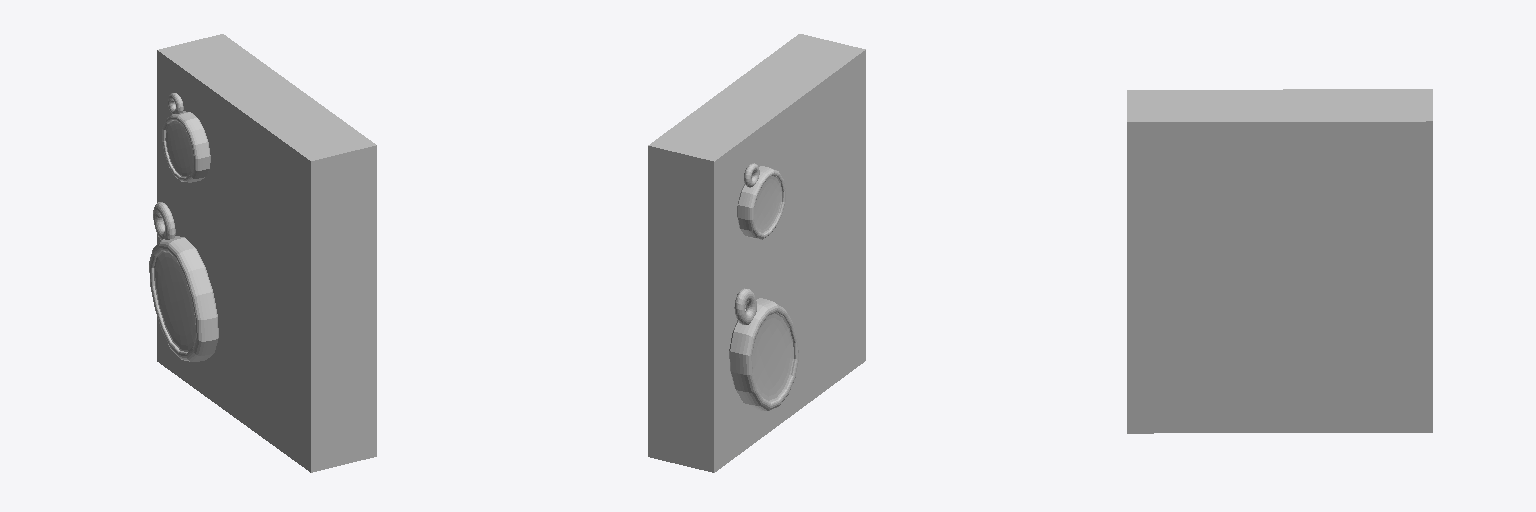
File: pared ayuda.obj
3 renders of one model, left to right at view 1: azimuth 30°, elevation 25°; view 2: azimuth 150°, elevation 25°; view 3: azimuth 270°, elevation 25°, orthographic.
Visible parts, largest first — view 1: initialShadingGroup pCube26, initialShadingGroup pCube23, initialShadingGroup pCube22, initialShadingGroup pCube23 pTorus1; view 2: initialShadingGroup pCube26, initialShadingGroup pCube23, initialShadingGroup pCube22, initialShadingGroup pCube23 pTorus1; view 3: initialShadingGroup pCube26.
Part boxes in pixels (bbox=[...]): initialShadingGroup pCube26: bbox=[157, 34, 376, 472]; initialShadingGroup pCube23: bbox=[149, 236, 218, 361]; initialShadingGroup pCube22: bbox=[162, 111, 210, 182]; initialShadingGroup pCube23 pTorus1: bbox=[153, 202, 175, 240]; initialShadingGroup pCube26: bbox=[648, 34, 865, 472]; initialShadingGroup pCube23: bbox=[729, 298, 798, 410]; initialShadingGroup pCube22: bbox=[737, 166, 785, 239]; initialShadingGroup pCube23 pTorus1: bbox=[734, 288, 756, 324]; initialShadingGroup pCube26: bbox=[1127, 89, 1432, 433].
Size of the model in its own units: 1.35 by 4.5 by 4.